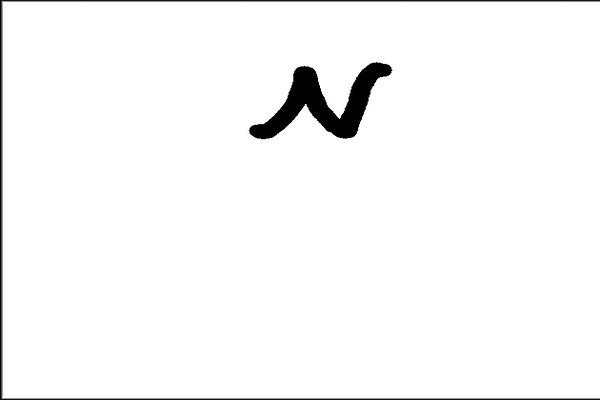N: (241, 57, 397, 141)
